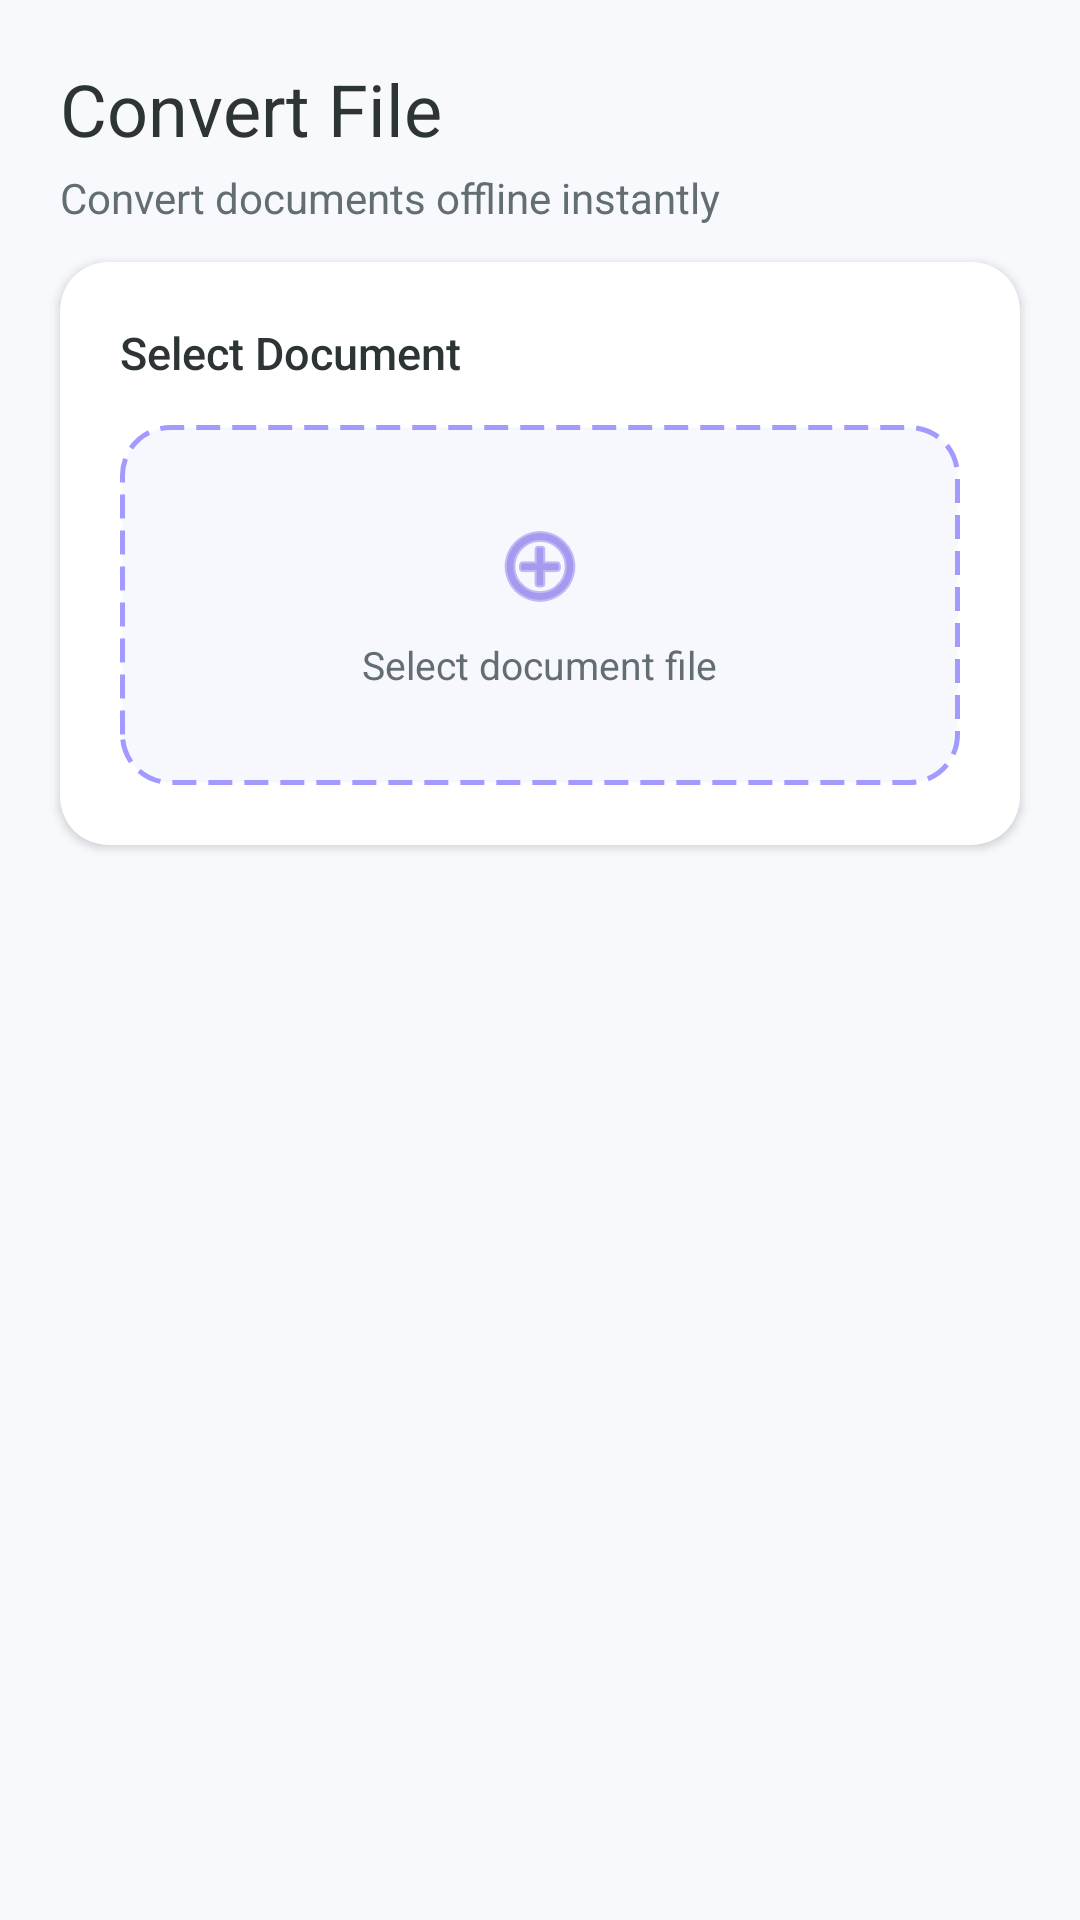

Screen size 1080w x 1920h. Icon name, then its center in pixels as (x=x, y=y):
add: (x=540, y=566)
